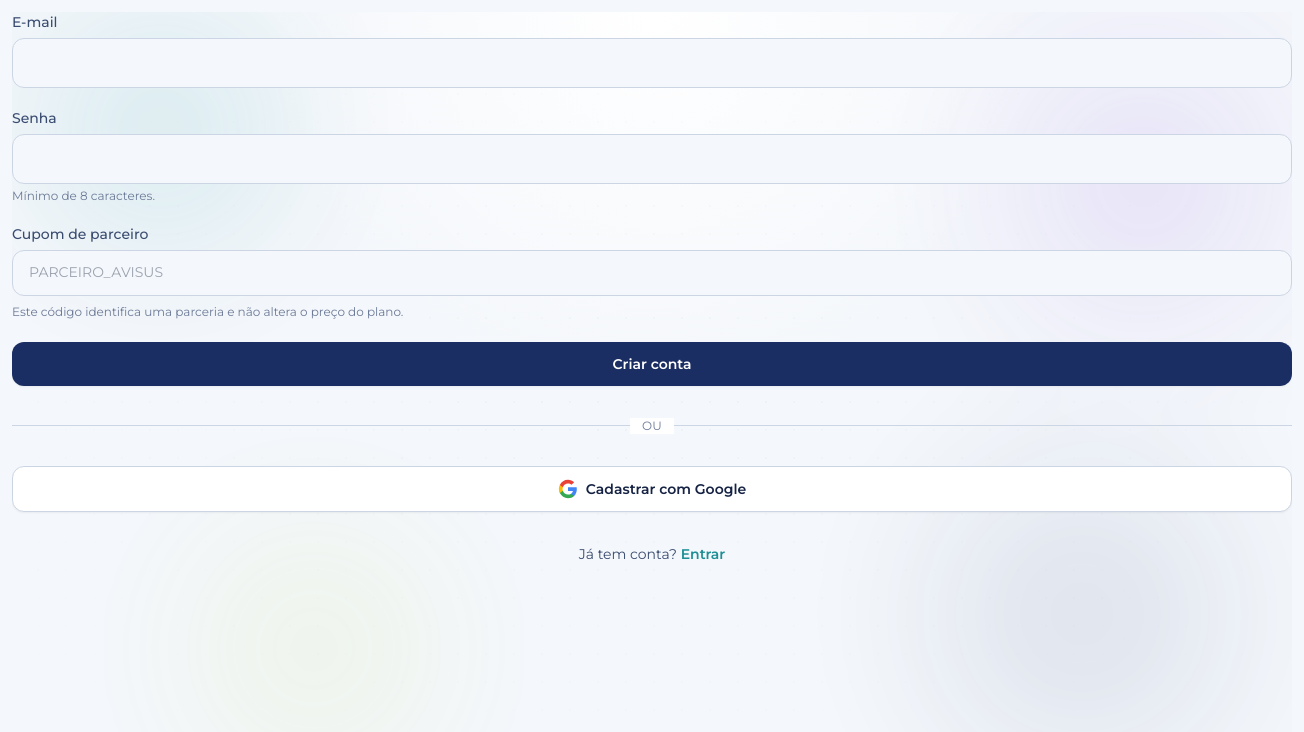
Scenario: RegisterForm › shows server info feedback
Type "info@avisus.test" into the field labelled "E-mail" at [652, 63], box left=12, top=38, right=1292, bottom=88
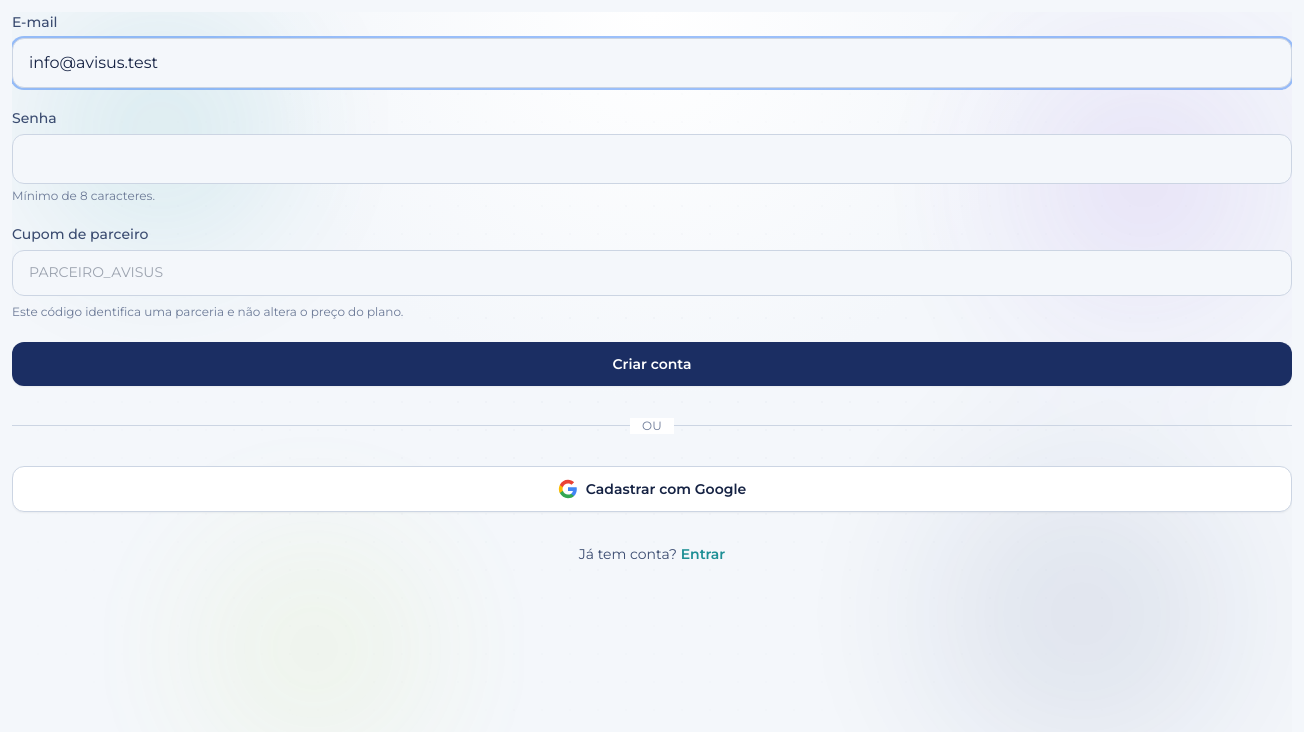
Type "password123" into the password field labelled "Senha" at [652, 159], box left=12, top=134, right=1292, bottom=184
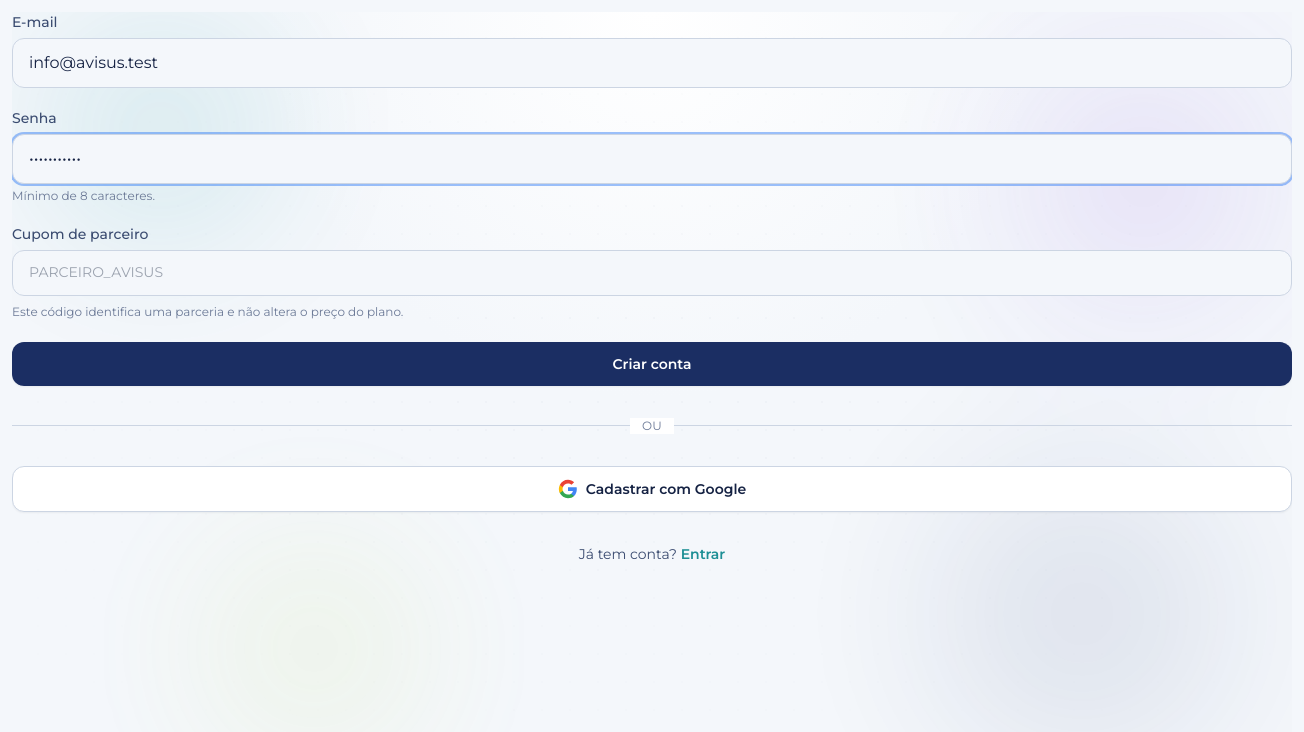
Click the button "Criar conta" at [652, 364], box left=12, top=342, right=1292, bottom=386
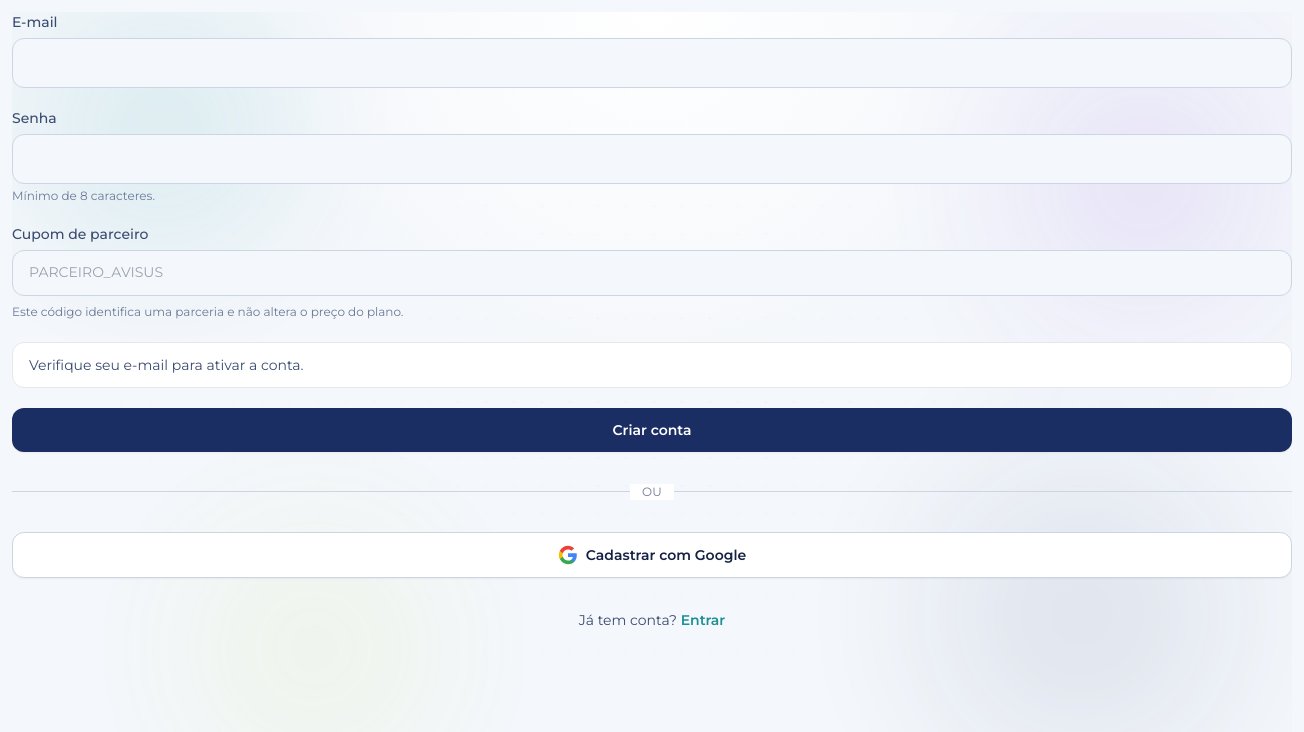
Now the message reads "Verifique seu e-mail para ativar a conta.", box left=29, top=356, right=304, bottom=374
